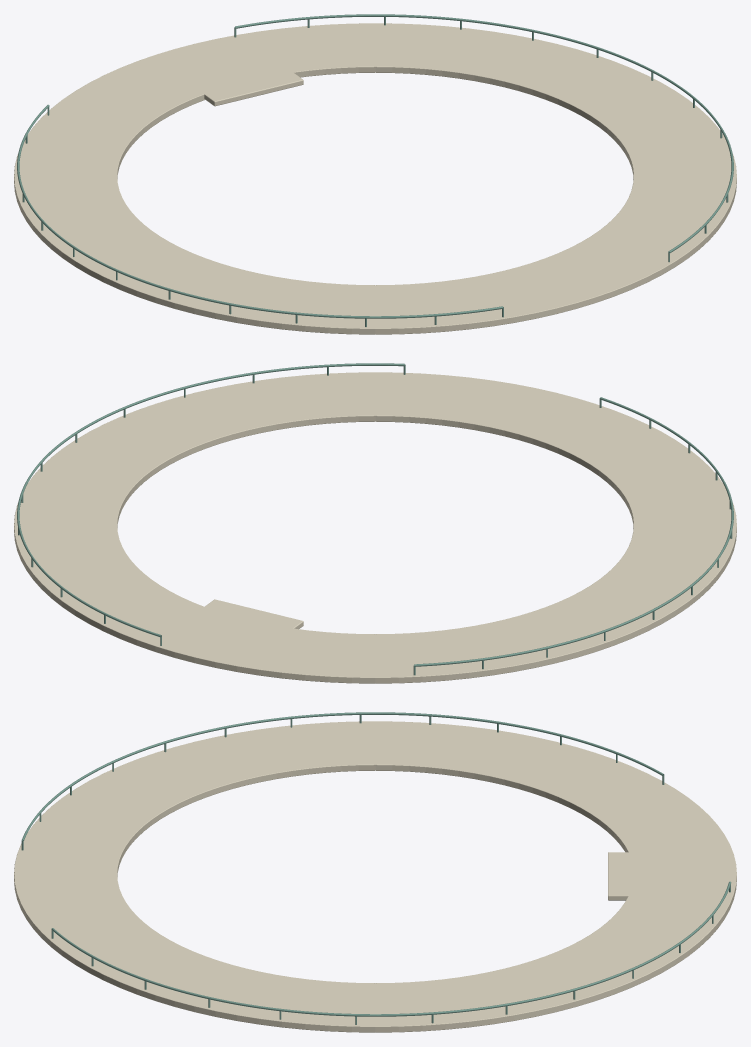
Rendered from balcony.glb.
3 renders of one model, top to bottom at view 1: azimuth 30°, elevation 25°; view 2: azimuth 150°, elevation 25°; view 3: azimuth 270°, elevation 25°, orthographic.
Parts seen in each view (by area): view 1: balcony; view 2: balcony; view 3: balcony.
Boxes of the visible parts, left/top/right/bottom form: balcony: left=14, top=14, right=736, bottom=334; balcony: left=14, top=363, right=736, bottom=683; balcony: left=14, top=712, right=736, bottom=1032.
Size of the model in its own units: 84 by 2.13 by 84.
